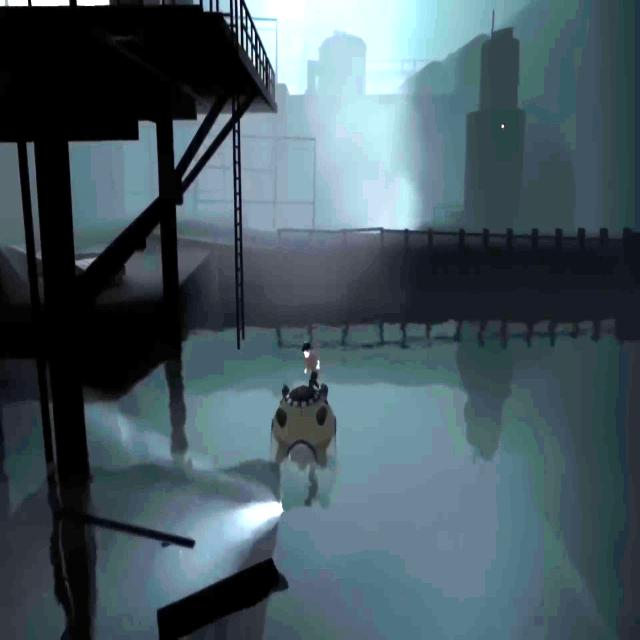boy: (302, 342, 320, 389)
structure: (275, 302, 640, 350), (275, 225, 640, 258)
submarine: (269, 383, 337, 510)
